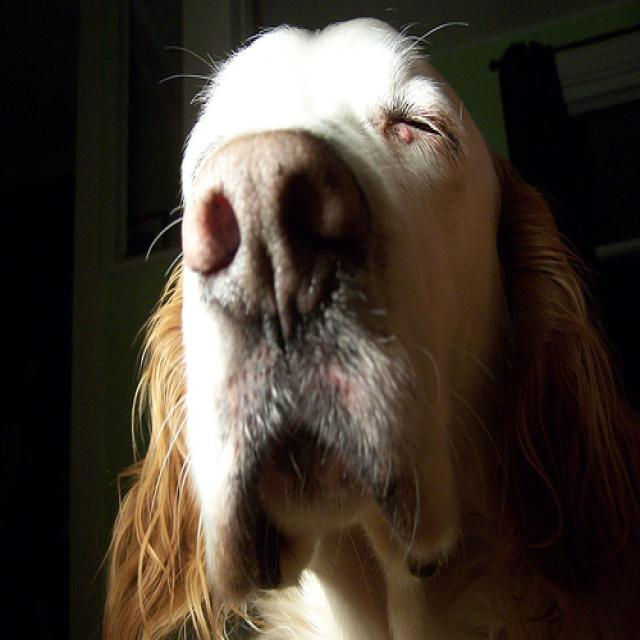dog: (79, 6, 635, 639)
